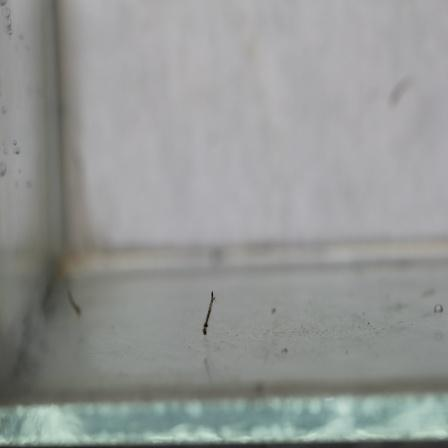Jentik-Nyamuk: (196, 288, 220, 340)
